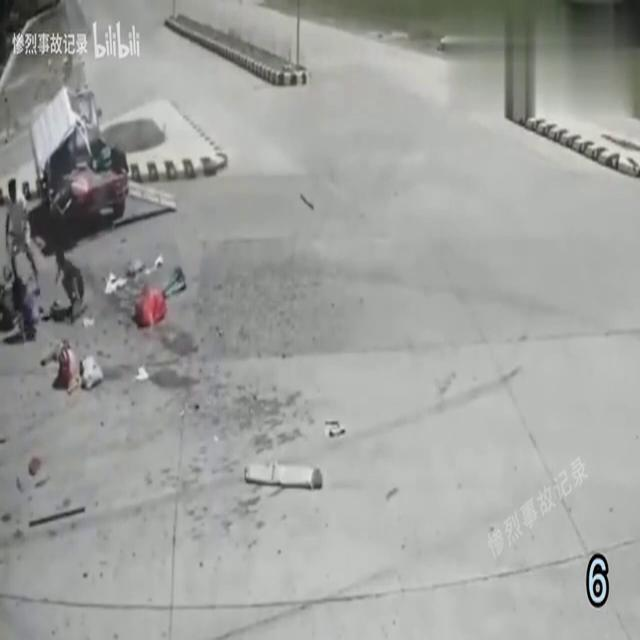accident: (28, 84, 212, 393)
